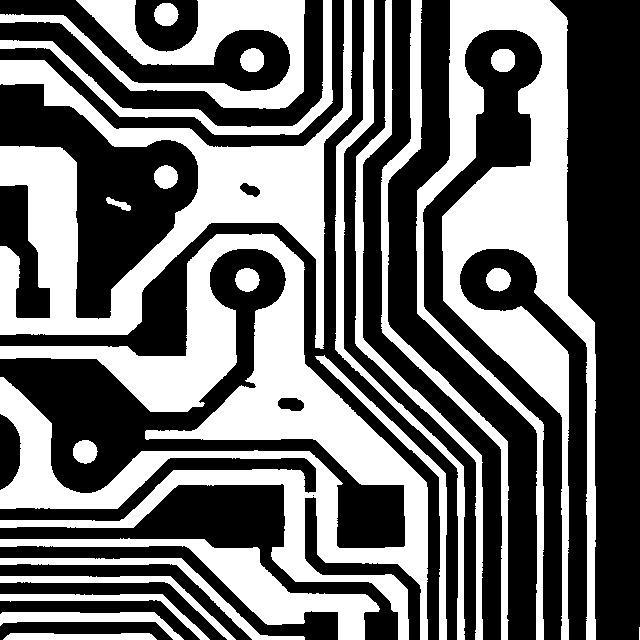copper: (268, 388, 313, 420), (230, 173, 269, 206)
mousebite: (179, 392, 214, 416)
open: (289, 482, 327, 507)
pin-hole: (96, 187, 140, 220)
short: (299, 337, 335, 365)
spur: (218, 370, 265, 397)
